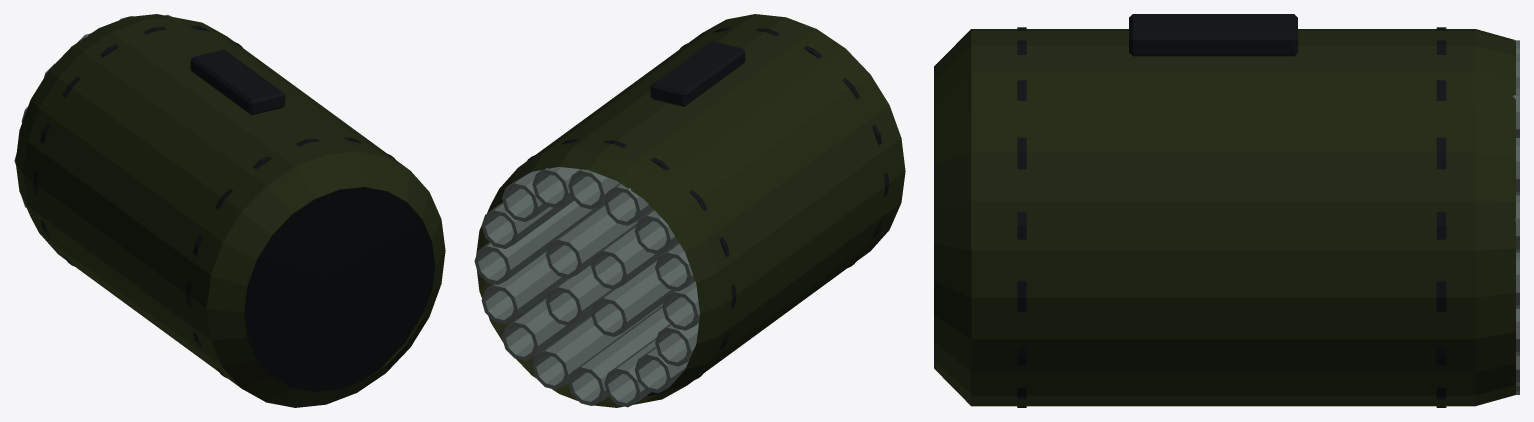
File: Rocket80Twenty__Empty.obj
3 renders of one model, left to right at view 1: azimuth 30°, elevation 25°; view 2: azimuth 150°, elevation 25°; view 3: azimuth 270°, elevation 25°, orthographic. The views are drawn at different scales.
Parts seen in each view (by area): view 1: Pod_aerodynamic_outer_shell, Rear_bulkhead, Mount_lug, Identification_band, Identification_band.001; view 2: Pod_aerodynamic_outer_shell, Tube_05, Mount_lug, Tube_17, Tube_03, Tube_01, Tube_18, Tube_20, Tube_19, Tube_02, Tube_04, Tube_06 (+12 smaller); view 3: Pod_aerodynamic_outer_shell, Mount_lug, Identification_band.001, Identification_band.
Boxes of the visible parts, x1,y1,x2,y2 form: Pod_aerodynamic_outer_shell: (15, 14, 445, 407); Rear_bulkhead: (244, 187, 435, 392); Mount_lug: (190, 49, 285, 115); Identification_band: (185, 137, 395, 378); Identification_band.001: (33, 25, 242, 266); Pod_aerodynamic_outer_shell: (476, 14, 905, 407); Tube_05: (474, 200, 604, 284); Mount_lug: (650, 41, 745, 106); Tube_17: (568, 306, 669, 405); Tube_03: (591, 261, 673, 336); Tube_01: (545, 204, 637, 278); Tube_18: (532, 304, 662, 389); Tube_20: (481, 251, 566, 324); Tube_19: (502, 296, 591, 360); Tube_02: (591, 225, 678, 289); Tube_04: (545, 265, 612, 325); Tube_06: (481, 198, 573, 248); Pod_aerodynamic_outer_shell: (934, 29, 1515, 406); Mount_lug: (1129, 14, 1297, 56); Identification_band.001: (1436, 27, 1446, 407); Identification_band: (1017, 27, 1026, 407).
Size of the model in its own units: 1.13 by 1.19 by 1.73.
